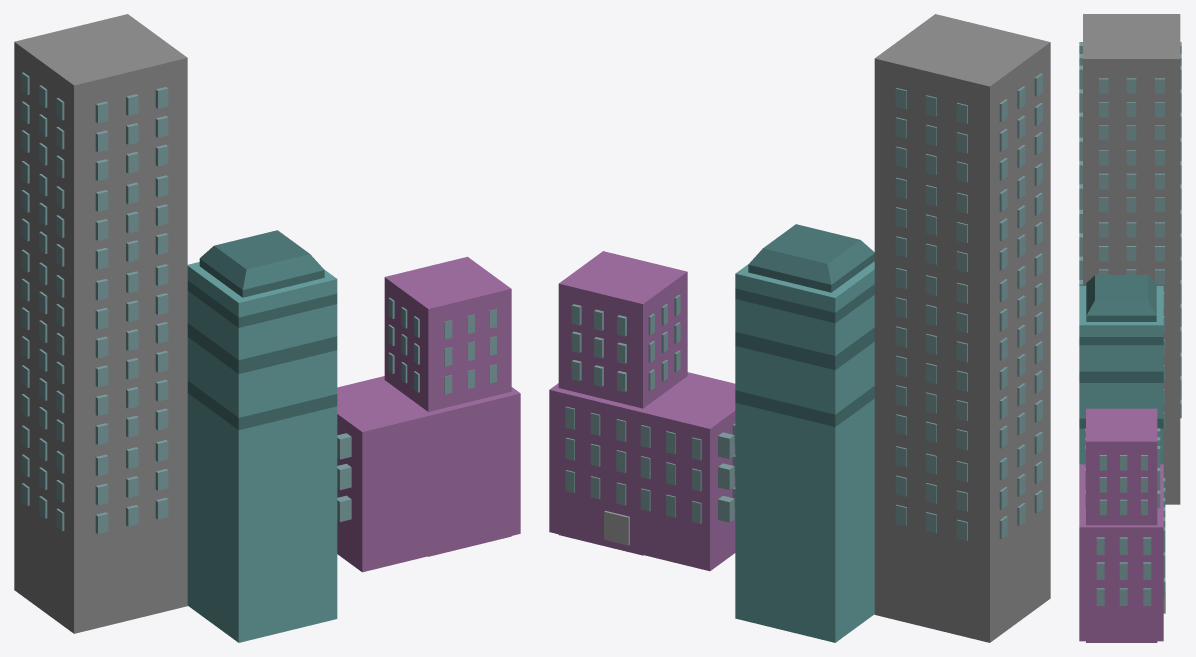
File: Buildings1.fbx
3 views of the same model, side by side, from view 1: azimuth 30°, elevation 25°; view 2: azimuth 150°, elevation 25°; view 3: azimuth 270°, elevation 25° (orthographic). The views are drawn at different scales.
Visible parts, largest first — view 1: Buildings1; view 2: Buildings1; view 3: Buildings1.
Boxes of the visible parts, x1=… form: Buildings1: x1=14, y1=14, x2=520, y2=642; Buildings1: x1=549, y1=14, x2=1050, y2=642; Buildings1: x1=1079, y1=14, x2=1181, y2=642.
Size of the model in its own units: 73.44 by 92.93 by 17.82.
